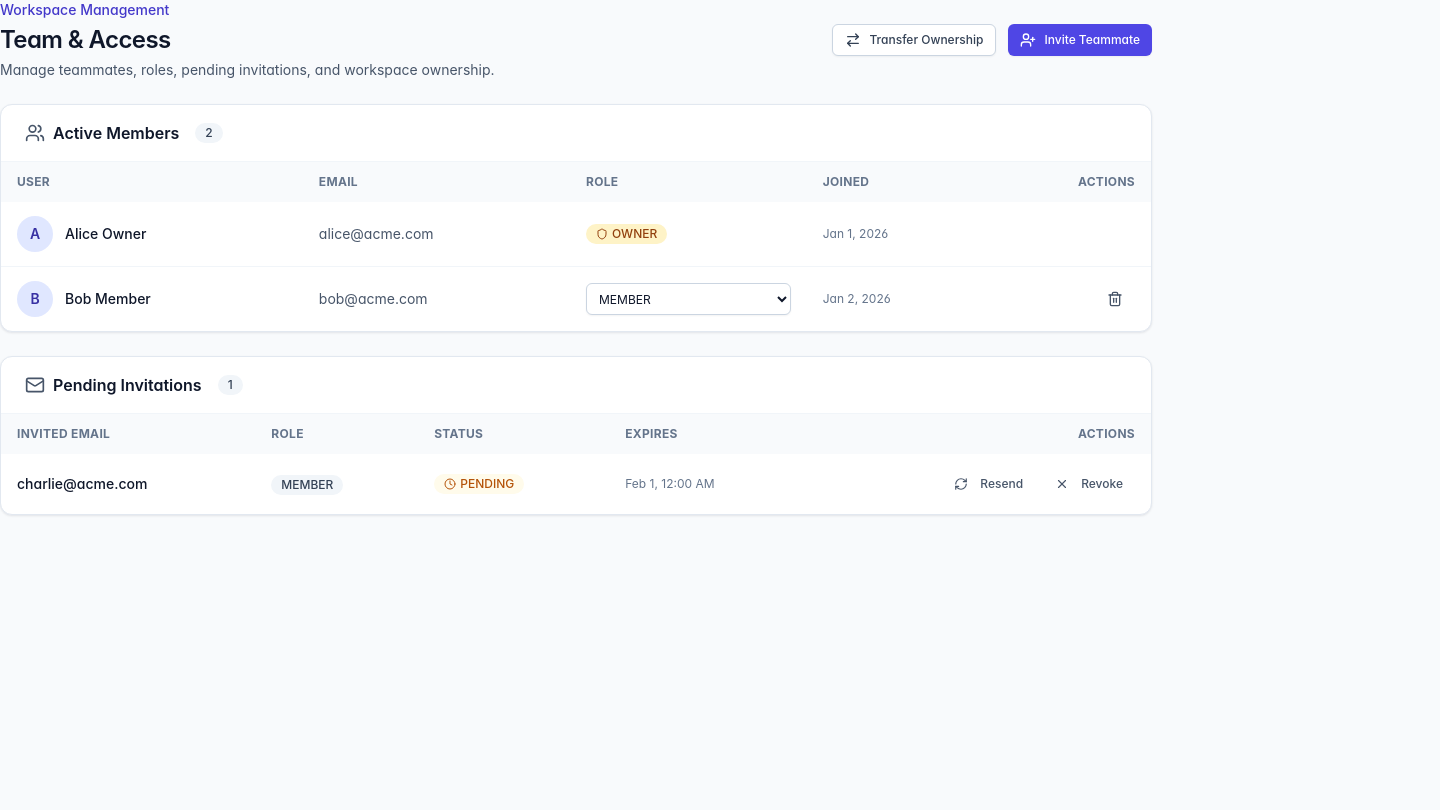
Test: TeamPage › allows inviting a teammate
The image size is (1440, 810).
Click the button "Invite Teammate" at [1080, 40], box [1008,24,1152,56]
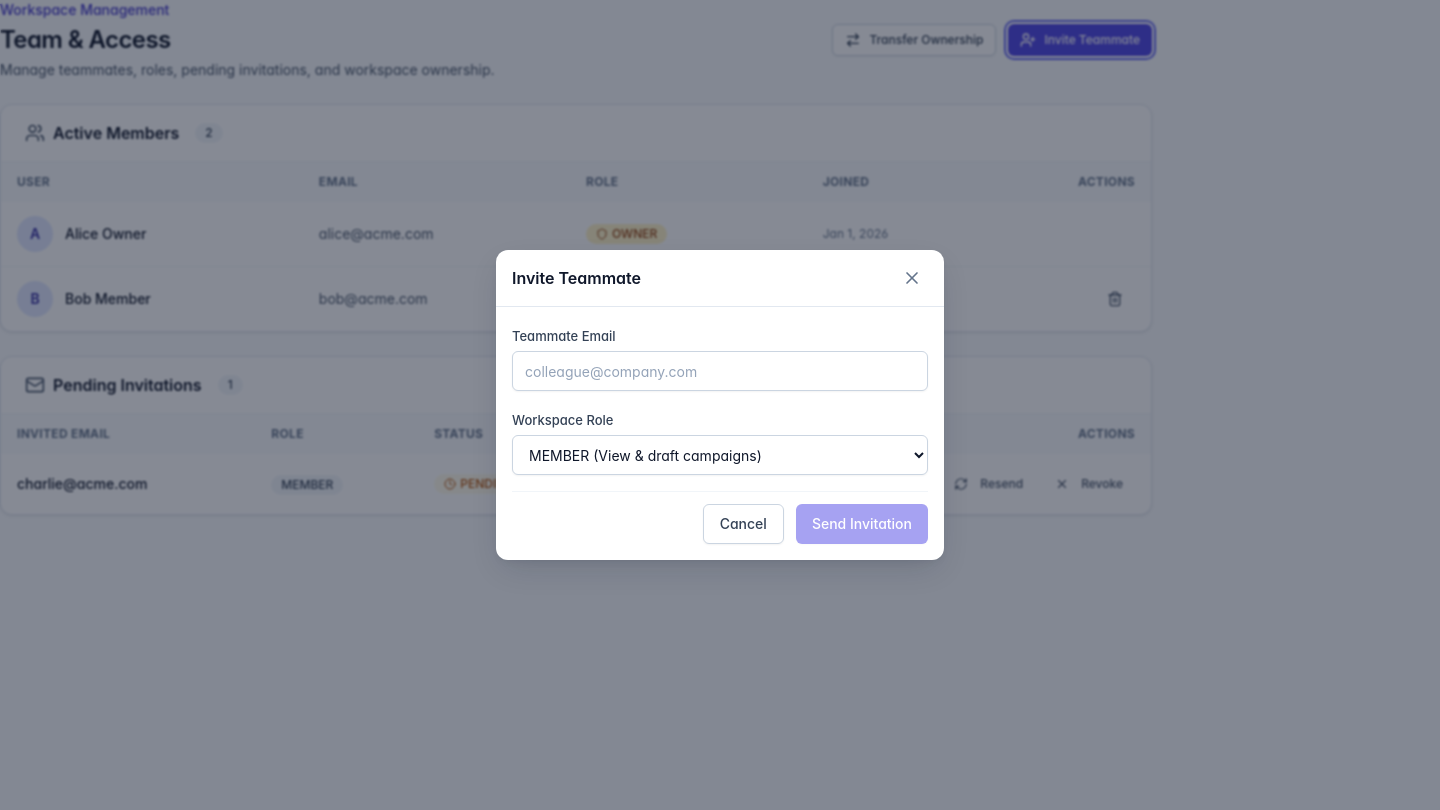
Type "newuser@acme.com" into the field labelled "Teammate Email" at [720, 371], box [512,351,928,391]
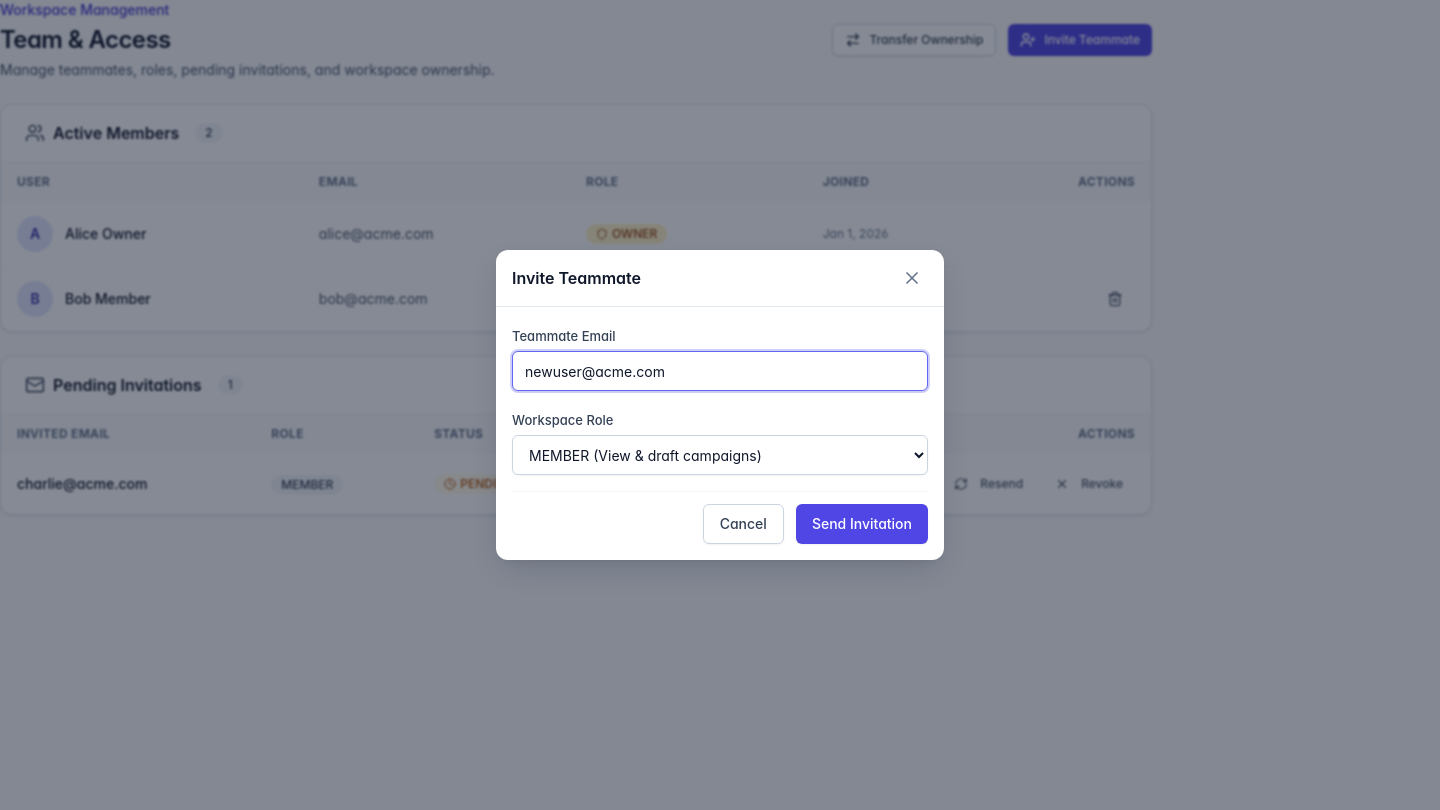
Click the button "Send Invitation" at [862, 524], box [796,504,928,544]
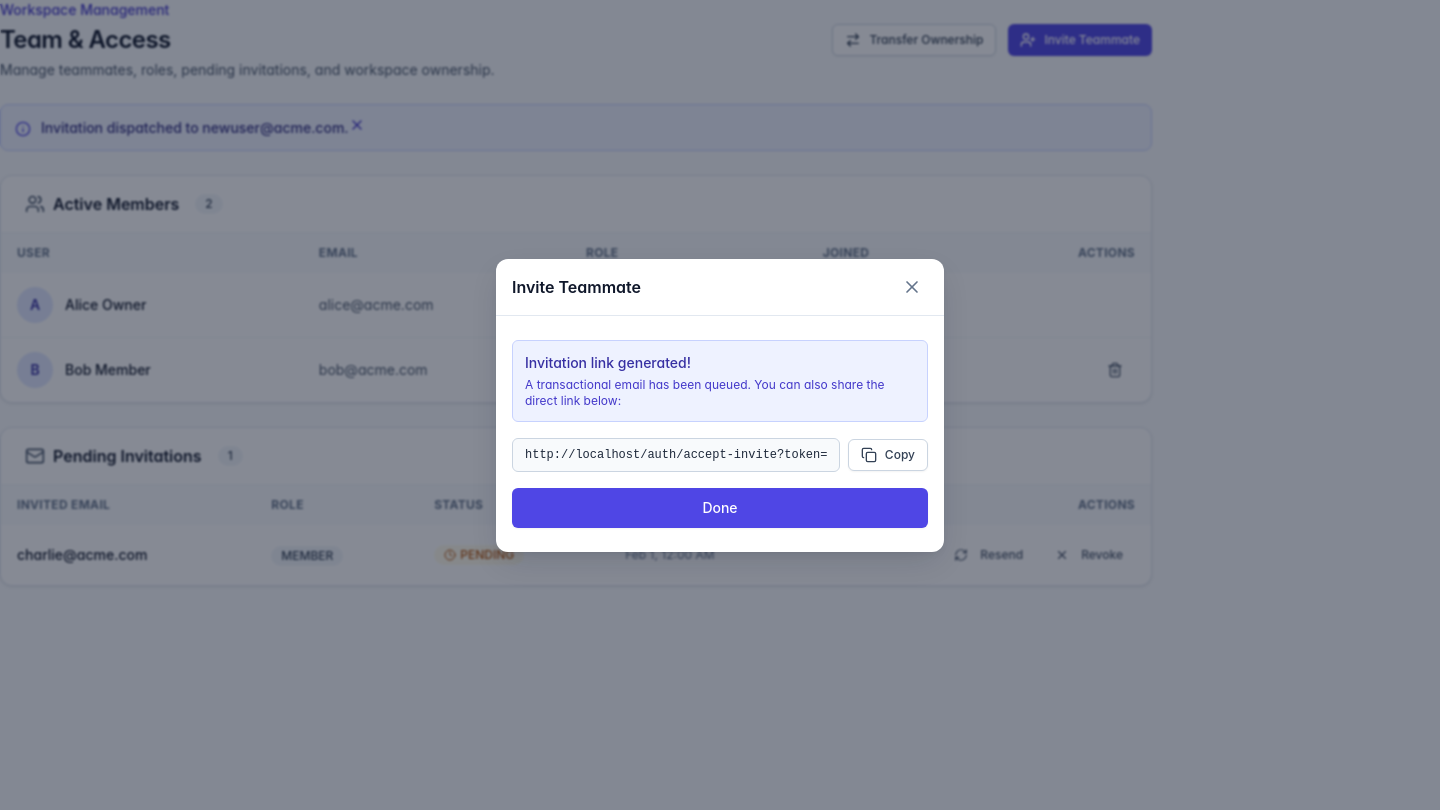
Expected: the text "Invitation link generated!" is shown, [525,354,691,370]
